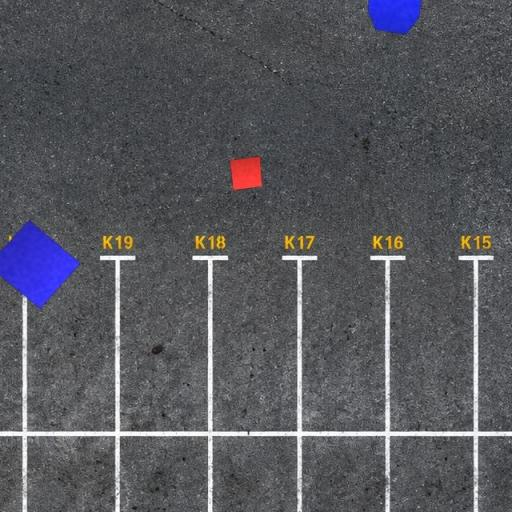BLUE_SQUARE: (0, 219, 81, 310)
RED_SQUARE: (229, 156, 263, 191)
